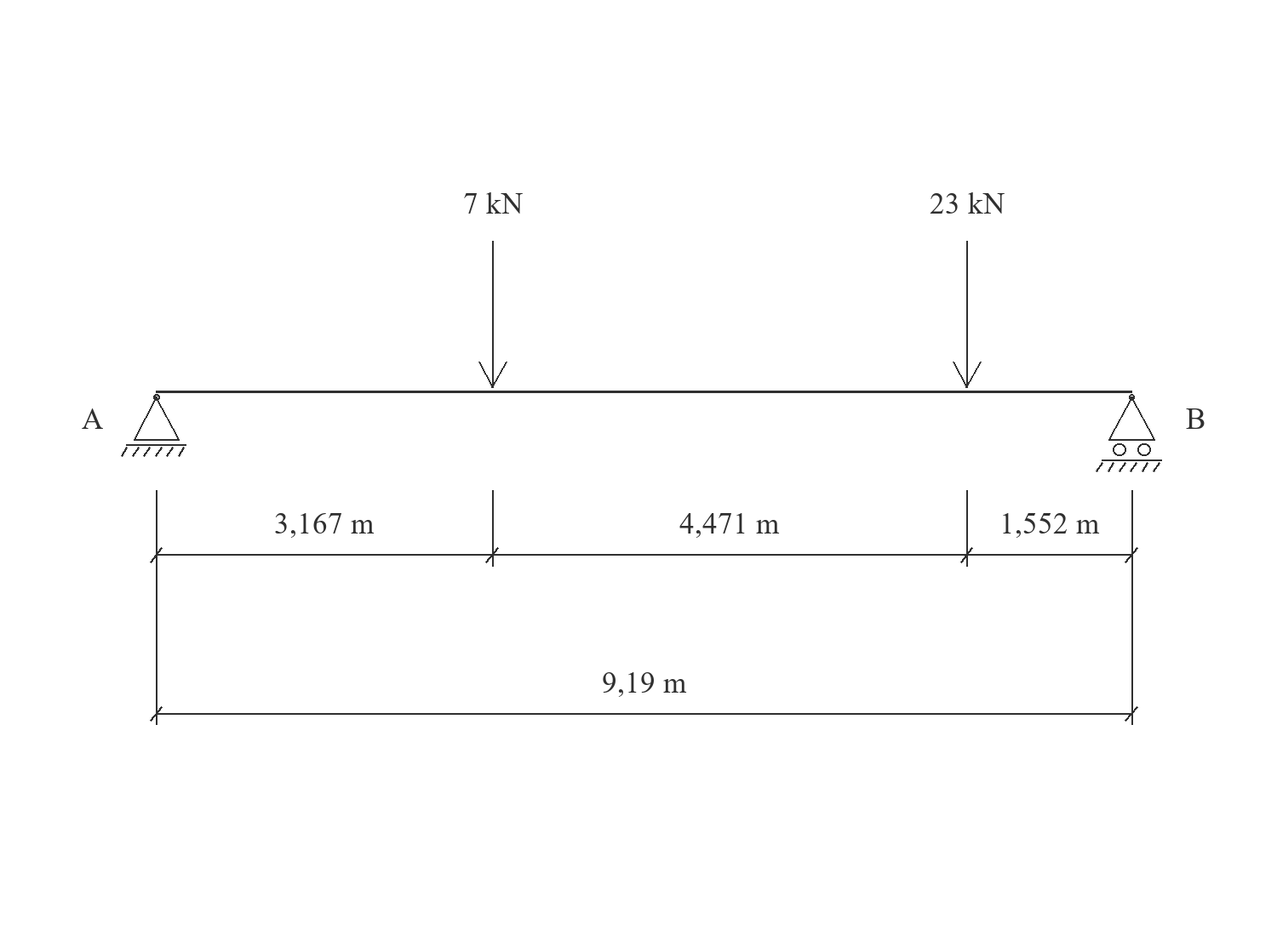pin_support: (121, 394, 186, 457)
point_load: (478, 241, 507, 388), (953, 241, 982, 388)
roller_support: (1096, 394, 1162, 472)
